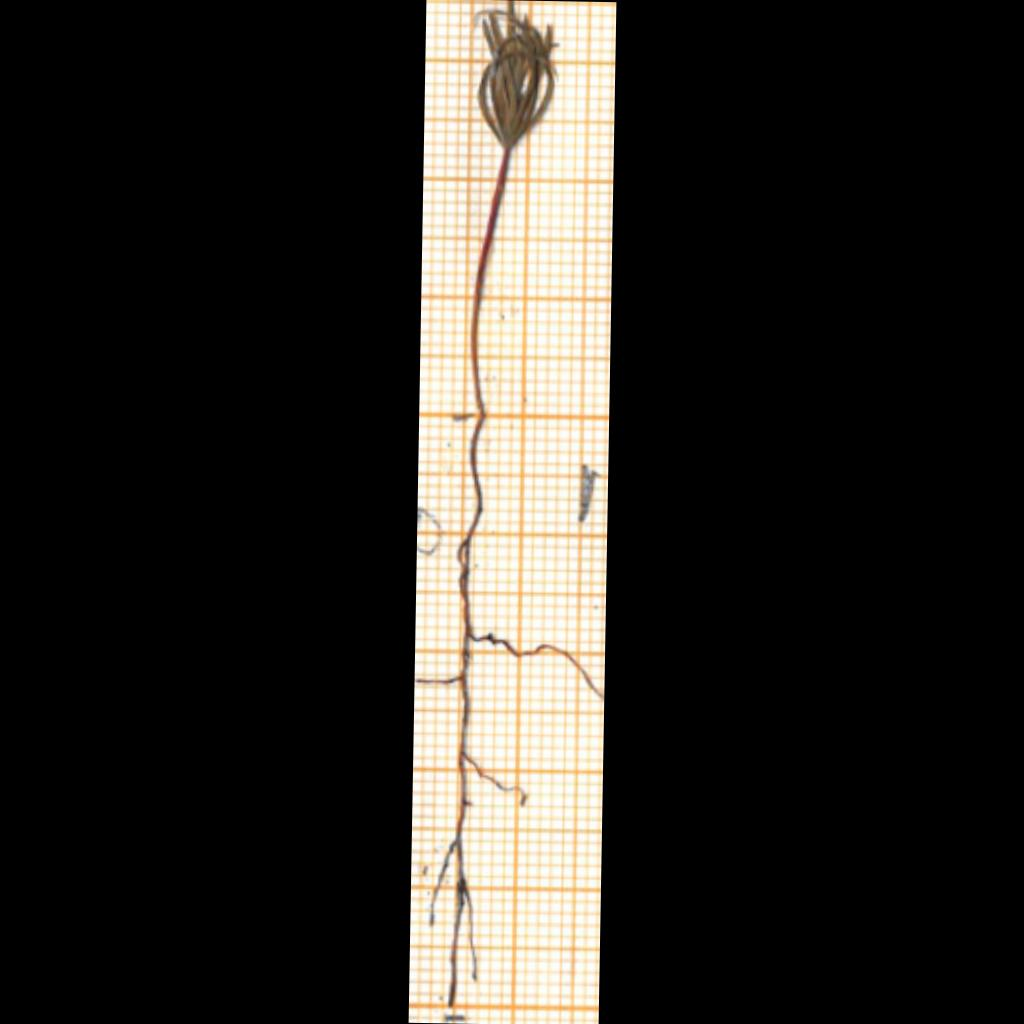flowerPinus: (480, 7, 554, 148)
rootPinus: (429, 429, 603, 1006)
stemPinus: (471, 151, 509, 417)
